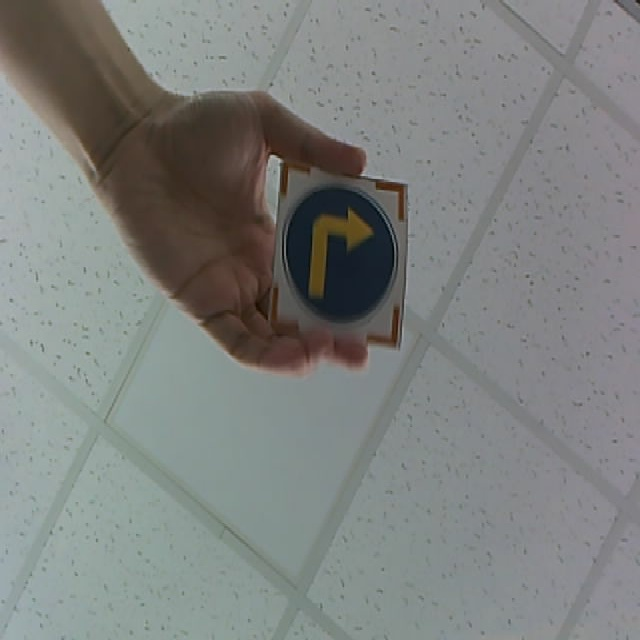right: (266, 160, 408, 350)
